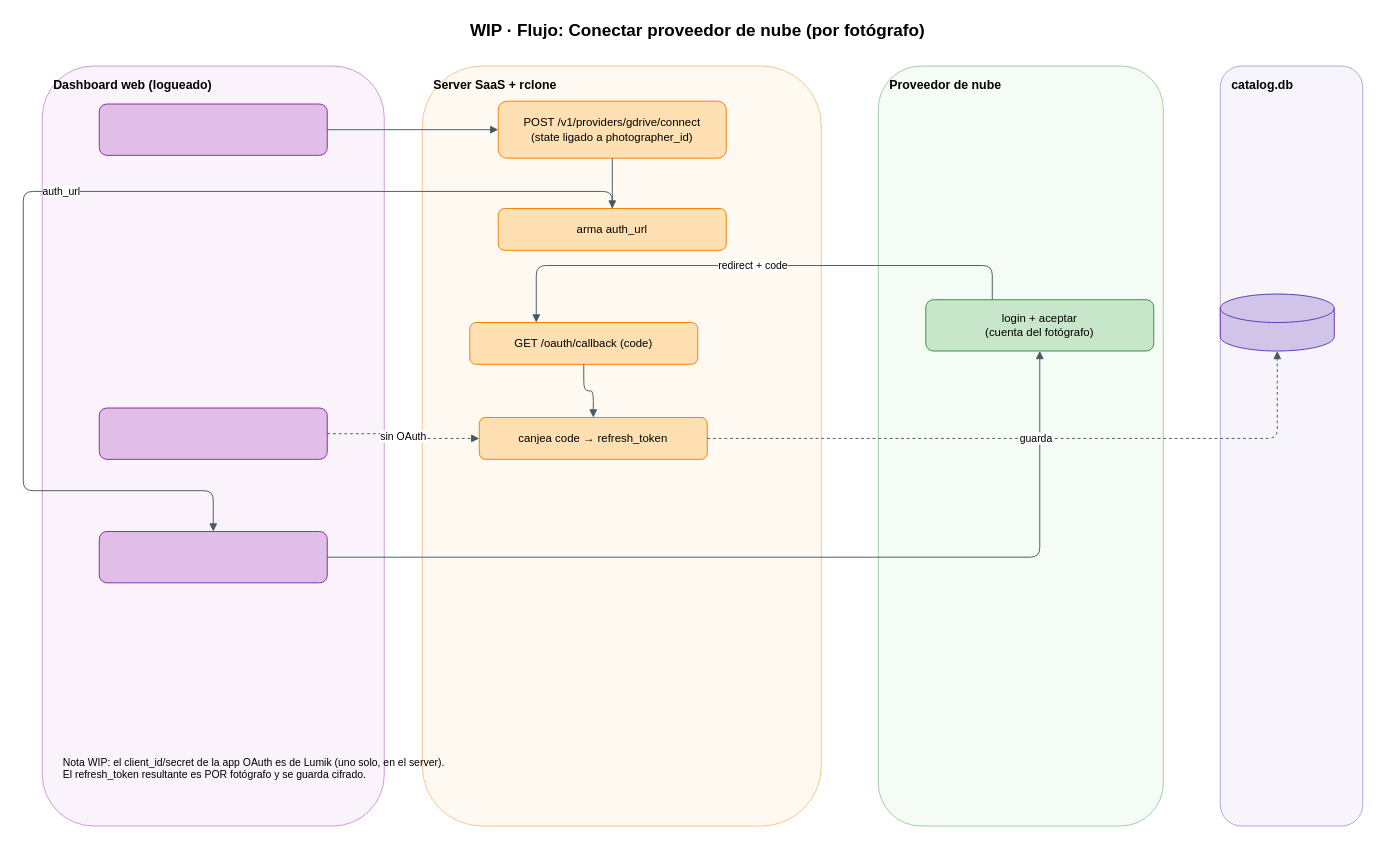
Image size: 1389x843. Some labels were removed from this diagram. Here are the shapes that lost their labels. From the top down, the centre of each, then its label:
At pixel 212 129: "‘Conectar Google Drive’".
At pixel 1276 322: "remote(photographer_id, ‘gdrive’, token cifrado)".
At pixel 212 433: "Mega/Nextcloud: pegar credenciales".
At pixel 212 557: "navegador → consentimiento".
